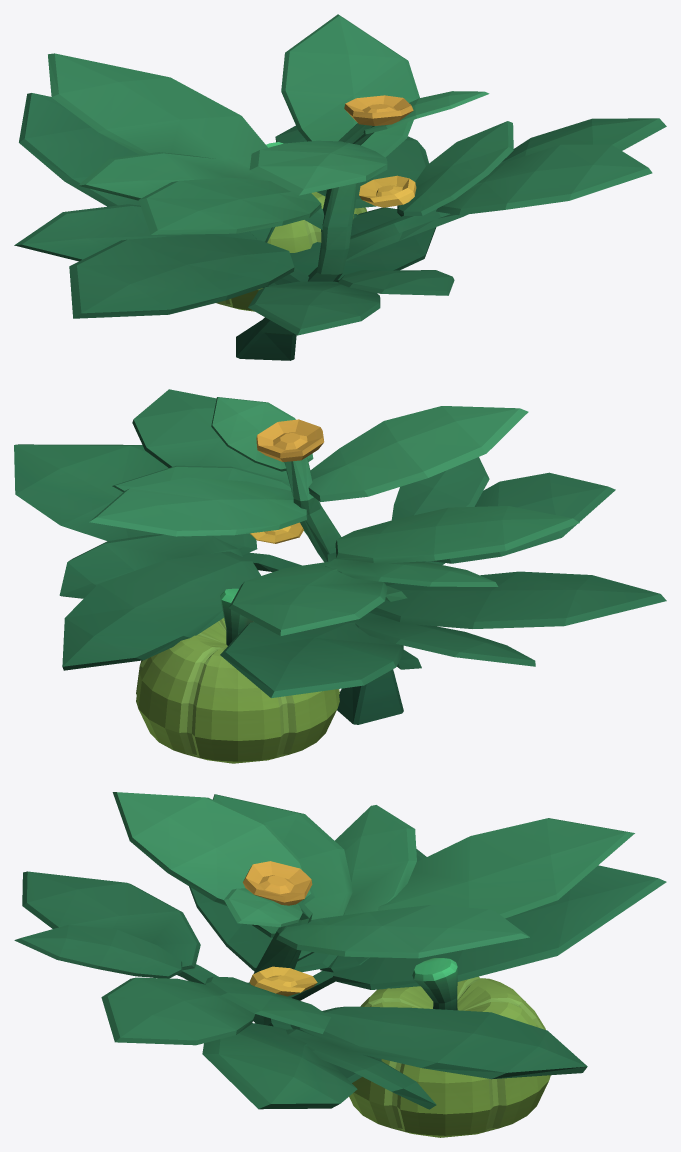
Rendered from crop_pumpkin_stage2.glb.
3 views of the same model, one above another, from view 1: azimuth 30°, elevation 25°; view 2: azimuth 150°, elevation 25°; view 3: azimuth 270°, elevation 25° (orthographic). The views are drawn at different scales.
Parts seen in each view (by area): view 1: crop_pumpkin_stage2; view 2: crop_pumpkin_stage2; view 3: crop_pumpkin_stage2.
Part boxes in pixels (left/top/right/bottom): crop_pumpkin_stage2: left=14, top=14, right=666, bottom=360; crop_pumpkin_stage2: left=14, top=389, right=666, bottom=763; crop_pumpkin_stage2: left=14, top=792, right=666, bottom=1137.
Bounding box in the file's own units: 0.64 × 0.24 × 0.5566.
Materials: 1 (1 with a texture image).
